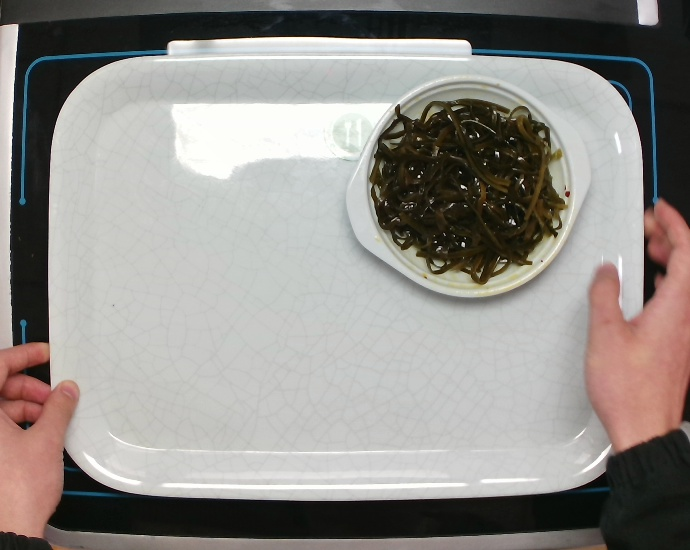JYsf-Shuang_Er_Pan: (343, 77, 593, 302)
